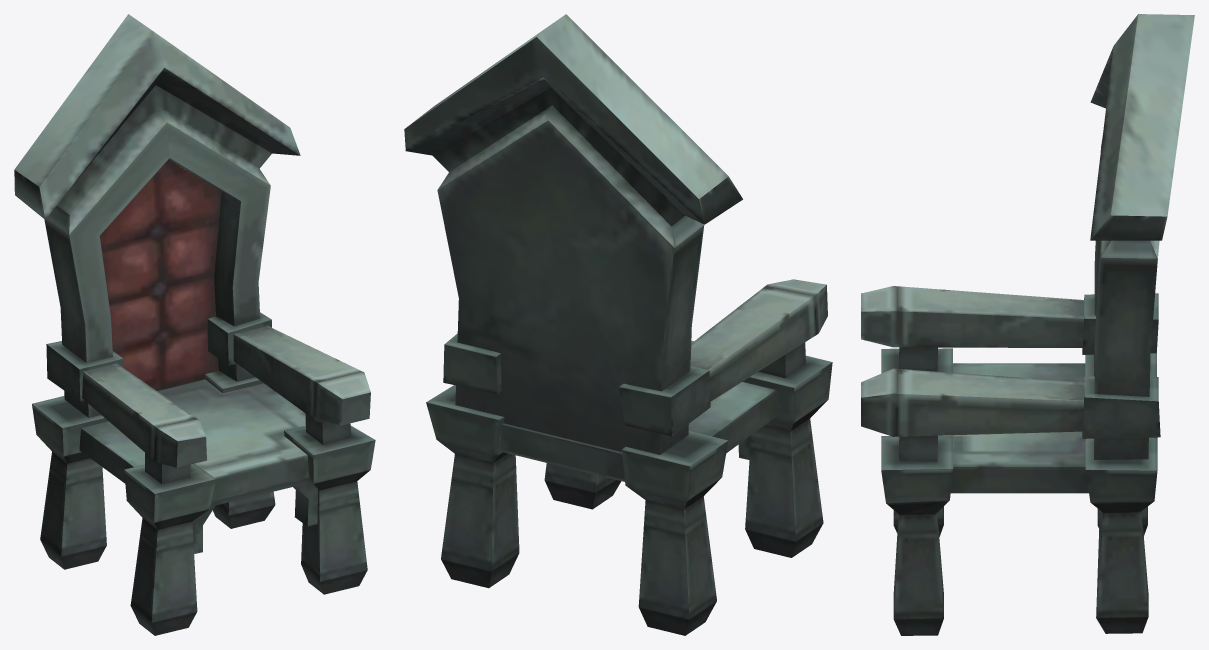
Rendered from crypt_chair01.fbx.
3 views of the same model, side by side, from view 1: azimuth 30°, elevation 25°; view 2: azimuth 150°, elevation 25°; view 3: azimuth 270°, elevation 25° (orthographic). The views are drawn at different scales.
Visible parts, largest first — view 1: miscellaneous; view 2: miscellaneous; view 3: miscellaneous.
Boxes of the visible parts, x1,y1,x2,y2 form: miscellaneous: [14, 14, 375, 635]; miscellaneous: [404, 14, 832, 635]; miscellaneous: [861, 14, 1194, 635].
Size of the model in its own units: 1.16 by 2.18 by 1.17.
